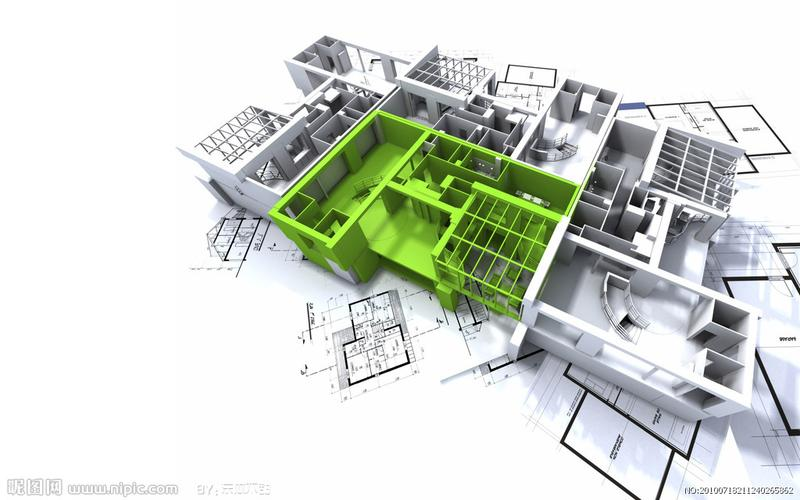buildings: (294, 282, 447, 414)
